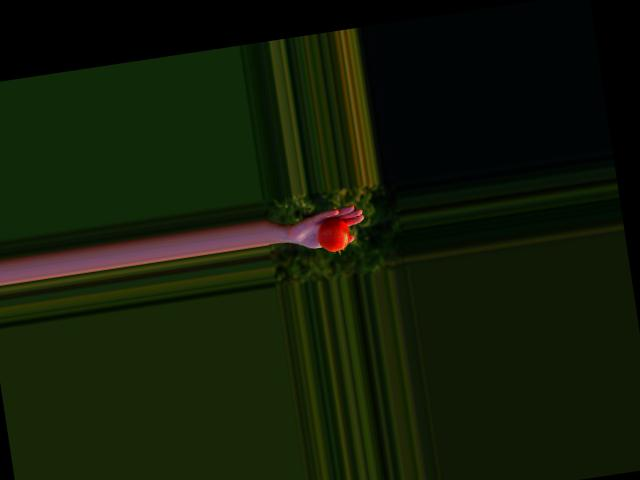tomato: (316, 214, 351, 252)
